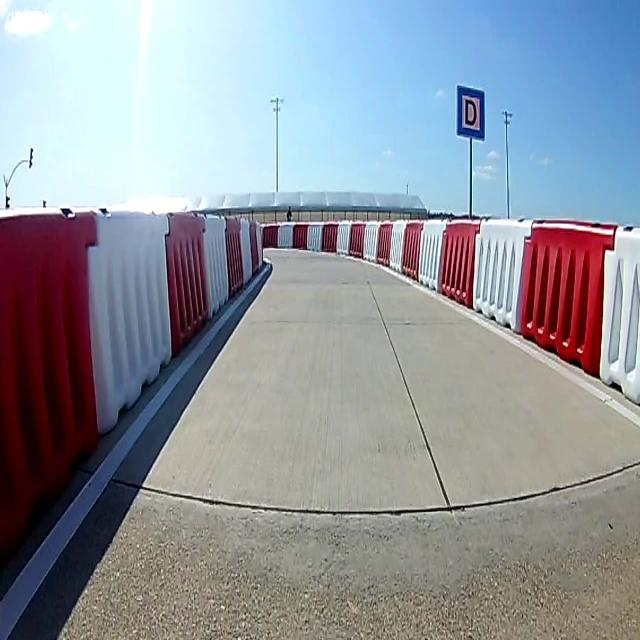durak: (456, 86, 485, 142)
